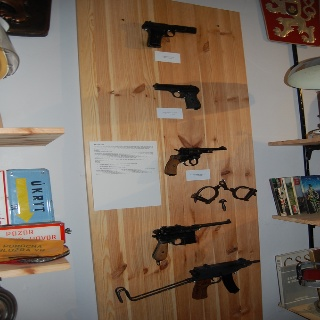pistol: (153, 220, 233, 259), (165, 144, 230, 177), (141, 18, 199, 49), (153, 82, 203, 110)
rifle: (111, 254, 260, 305)
